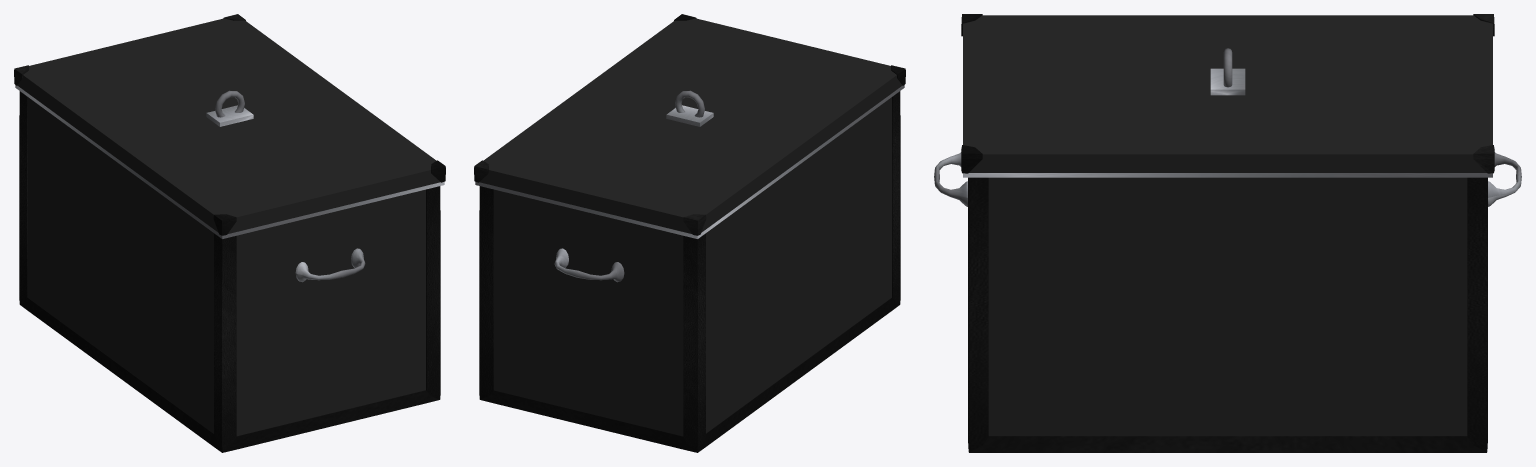
File: storage box 1.fbx
The picture shows the model from 3 angles, left to right: view 1: azimuth 30°, elevation 25°; view 2: azimuth 150°, elevation 25°; view 3: azimuth 270°, elevation 25°; orthographic projection. The views are drawn at different scales.
Visible parts, largest first — view 1: box, box_cap, handle1; view 2: box, box_cap, handle1; view 3: box, box_cap, handle1.
Part boxes in pixels (x1,y1,x2,y2): box: (19, 91, 440, 452); box_cap: (14, 14, 445, 238); handle1: (206, 90, 365, 282); box: (479, 91, 900, 452); box_cap: (474, 14, 905, 238); handle1: (554, 90, 713, 282); box: (968, 177, 1487, 452); box_cap: (961, 14, 1494, 177); handle1: (934, 48, 1521, 206).
Size of the model in its own units: 3.83 by 4.26 by 6.77.
Materials: 2 (2 with a texture image).
